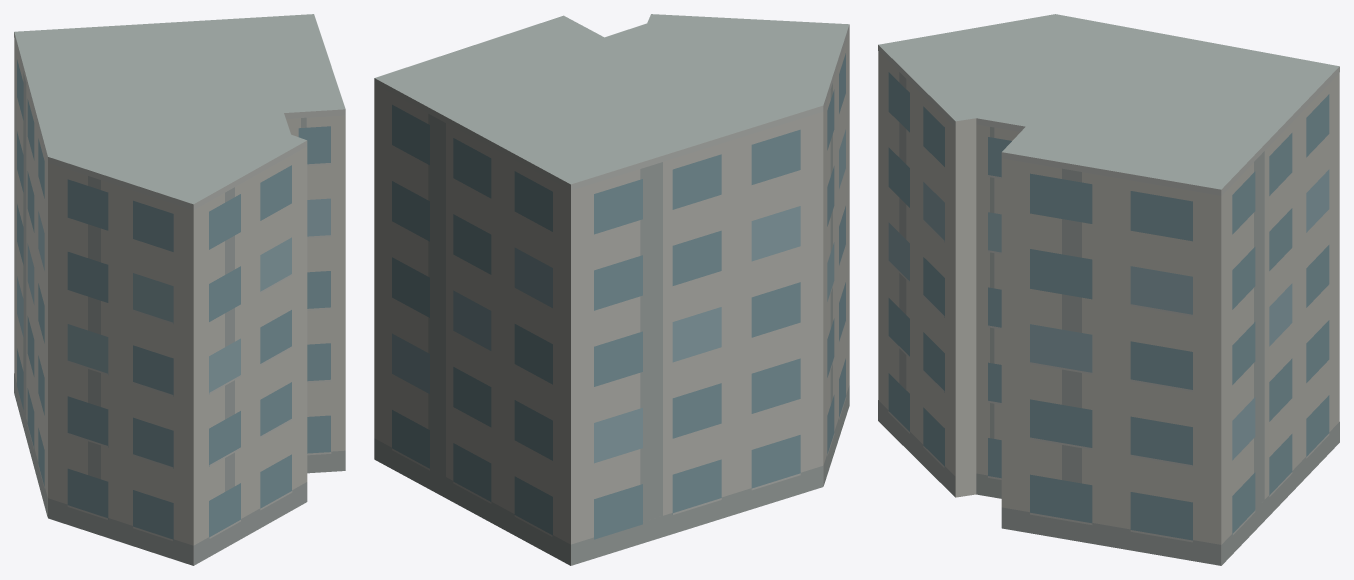
The model's file is survey-upis-32749573.glb.
3 views of the same model, side by side, from view 1: azimuth 30°, elevation 25°; view 2: azimuth 150°, elevation 25°; view 3: azimuth 270°, elevation 25° (orthographic). The views are drawn at different scales.
Parts seen in each view (by area): view 1: survey-upis-32749573.tmp; view 2: survey-upis-32749573.tmp; view 3: survey-upis-32749573.tmp.
Boxes of the visible parts, x1,y1,x2,y2 form: survey-upis-32749573.tmp: [14, 14, 345, 565]; survey-upis-32749573.tmp: [374, 14, 849, 565]; survey-upis-32749573.tmp: [878, 14, 1339, 565].
Size of the model in its own units: 14.78 by 14.75 by 16.41.
